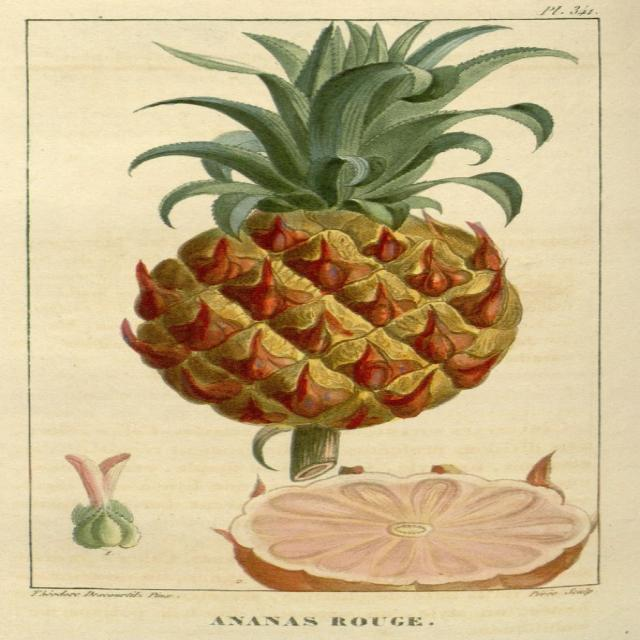Pineapple: (126, 14, 578, 471)
